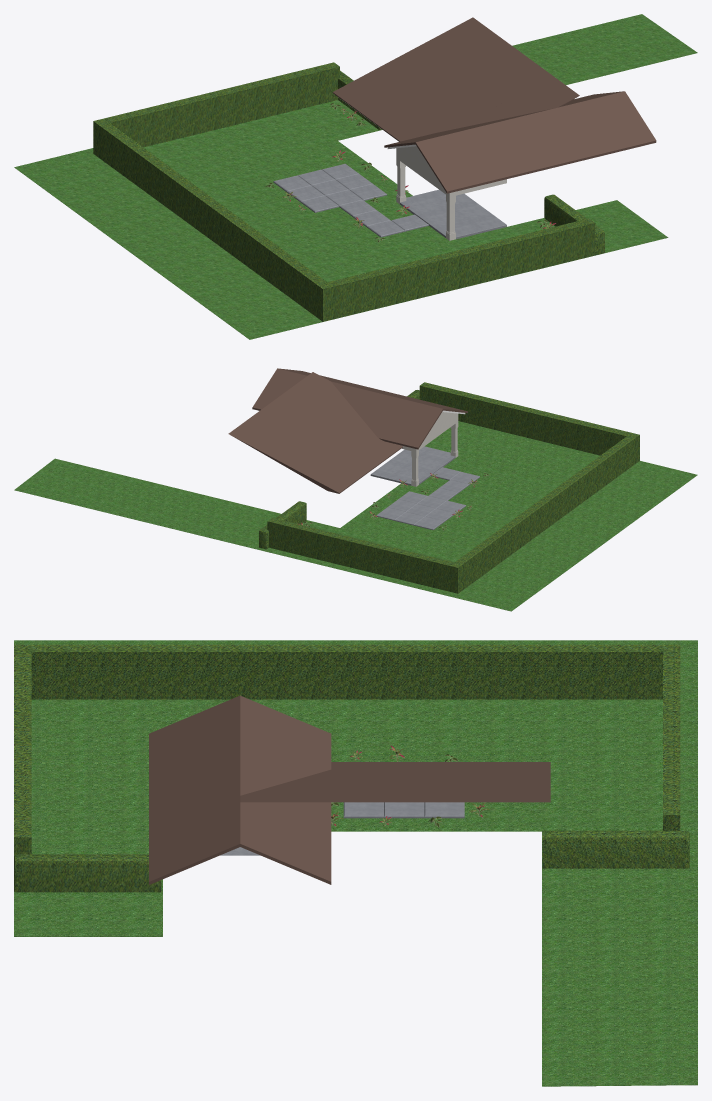
Rendered from KBH_Interior_model1989_yard.gltf.
3 renders of one model, top to bottom at view 1: azimuth 30°, elevation 25°; view 2: azimuth 150°, elevation 25°; view 3: azimuth 270°, elevation 25°, orthographic. The views are drawn at different scales.
Parts seen in each view (by area): view 1: Line23332, Line23788, Line23740, Line23738, Box6900, Line23741, Line23734, Box8147; view 2: Line23332, Line23788, Line23740, Line23738, Box6900, Line23741, Box8199, Line23734; view 3: Line23332, Line23788, Line23738, Line23740, Box8199, Box8147, Line23741, Box7975, Box7976, Box7977.
Boxes of the visible parts, left/top/right/bottom form: Line23332: left=14, top=14, right=697, bottom=339; Line23788: left=93, top=62, right=595, bottom=321; Line23740: left=332, top=17, right=552, bottom=141; Line23738: left=384, top=91, right=656, bottom=193; Box6900: left=400, top=189, right=506, bottom=239; Line23741: left=455, top=76, right=579, bottom=128; Line23734: left=396, top=146, right=506, bottom=196; Box8147: left=544, top=194, right=604, bottom=255; Line23332: left=14, top=421, right=697, bottom=611; Line23788: left=267, top=382, right=639, bottom=593; Line23740: left=228, top=387, right=402, bottom=493; Line23738: left=252, top=368, right=467, bottom=449; Box6900: left=370, top=446, right=455, bottom=485; Line23741: left=292, top=372, right=369, bottom=428; Box8199: left=259, top=501, right=306, bottom=549; Line23734: left=401, top=412, right=458, bottom=452; Line23332: left=14, top=640, right=697, bottom=1086; Line23788: left=14, top=644, right=680, bottom=856; Line23738: left=149, top=695, right=331, bottom=884; Line23740: left=317, top=762, right=550, bottom=802; Box8199: left=542, top=830, right=689, bottom=868; Box8147: left=14, top=854, right=161, bottom=892; Line23741: left=240, top=774, right=317, bottom=802; Box7975: left=343, top=802, right=383, bottom=818; Box7976: left=384, top=802, right=424, bottom=818; Box7977: left=424, top=802, right=464, bottom=818.
Size of what is drawn, in the model's own units: 60.2 by 8 by 39.
8 materials, 6 textured.
